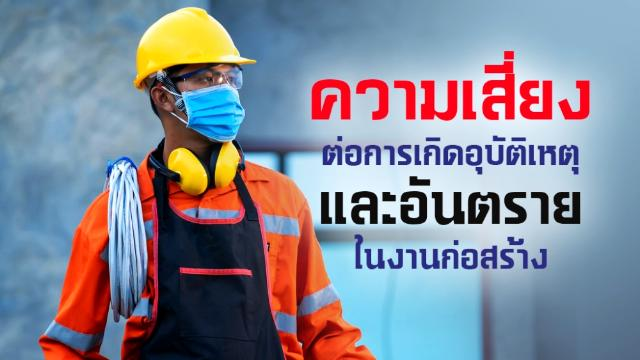helmet: (122, 3, 258, 84)
vest: (65, 165, 321, 360)
